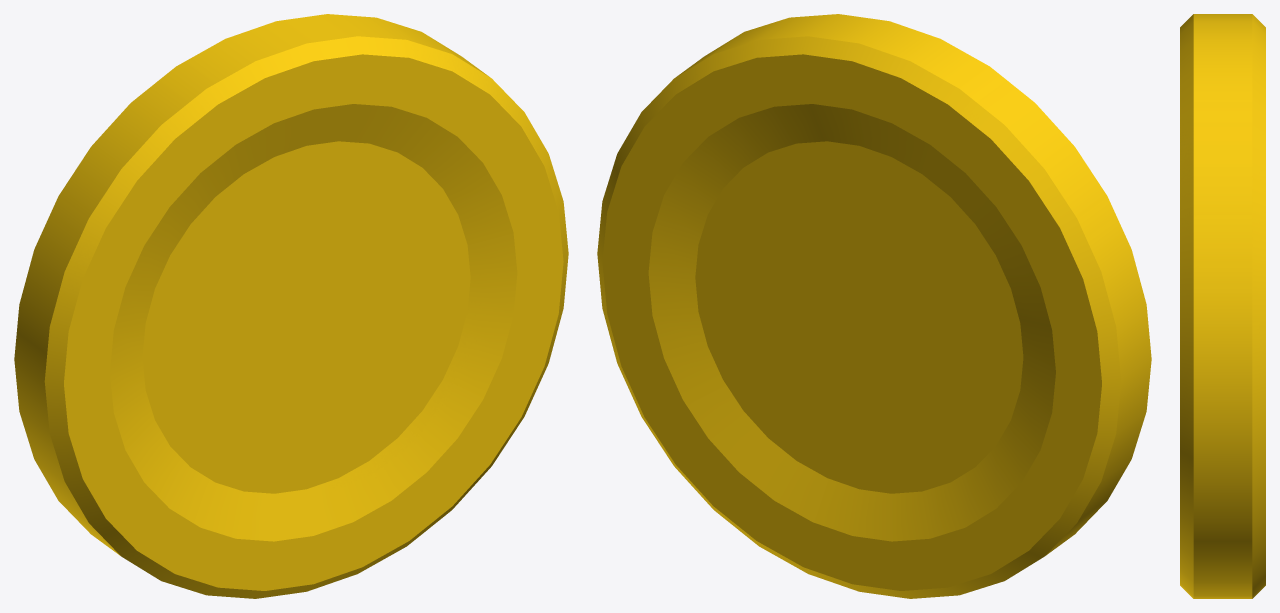
Rendered from Coin_effect.FBX.
3 renders of one model, left to right at view 1: azimuth 30°, elevation 25°; view 2: azimuth 150°, elevation 25°; view 3: azimuth 270°, elevation 25°, orthographic. The views are drawn at different scales.
Parts seen in each view (by area): view 1: Coin; view 2: Coin; view 3: Coin.
Part boxes in pixels (x1,y1,x2,y2): Coin: (14,14,568,598); Coin: (597,14,1151,598); Coin: (1180,14,1265,598).
Size of the model in its own units: 32.2 by 32.2 by 4.73.
